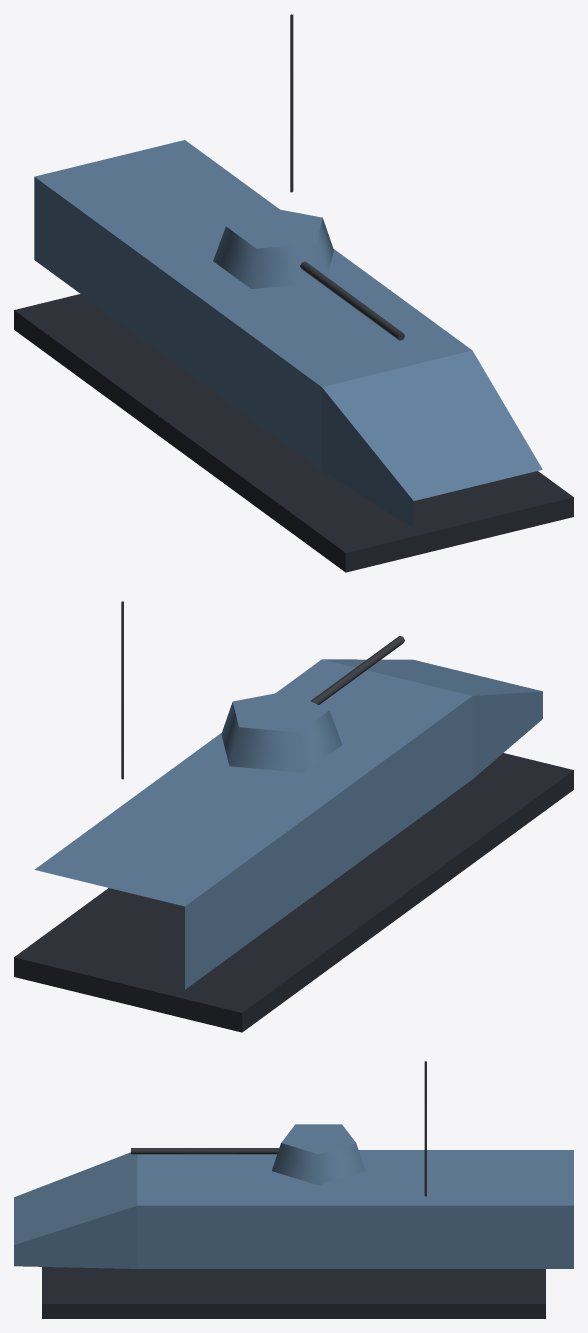
Rendered from veh_ground_scout_car_a10_lod1.glb.
3 views of the same model, one above another, from view 1: azimuth 30°, elevation 25°; view 2: azimuth 150°, elevation 25°; view 3: azimuth 270°, elevation 25° (orthographic). The views are drawn at different scales.
Visible parts, largest first — view 1: body, turret; view 2: body, turret; view 3: body, turret.
Part boxes in pixels (x1,y1,x2,y2): body: (14,14,573,572); turret: (213,207,404,340); body: (14,601,573,1032); turret: (221,636,404,772); body: (14,1061,573,1318); turret: (131,1124,365,1185).
Size of the model in its own units: 2.43 by 3.34 by 6.8.
